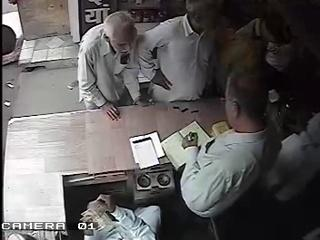Normal: (180, 66, 282, 236), (136, 0, 226, 104), (76, 11, 148, 122), (79, 189, 159, 240)
